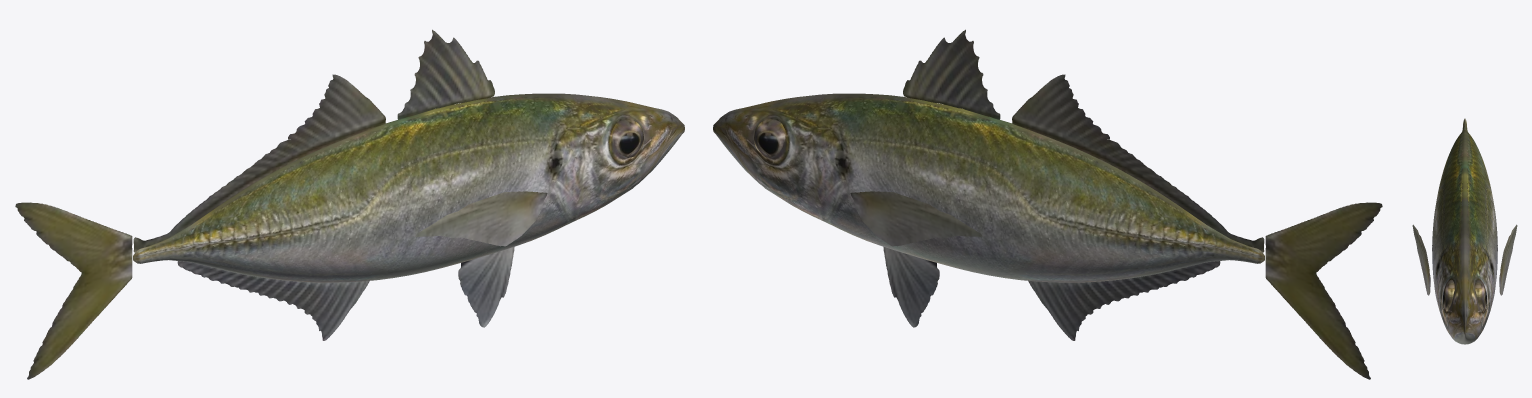
File: fish_aji.glb
3 renders of one model, left to right at view 1: azimuth 30°, elevation 25°; view 2: azimuth 150°, elevation 25°; view 3: azimuth 270°, elevation 25°, orthographic. The views are drawn at different scales.
Parts seen in each view (by area): view 1: hi, lo; view 2: hi, lo; view 3: hi, lo.
Boxes of the visible parts, bbox=[...] form: hi: bbox=[15, 29, 684, 379]; lo: bbox=[16, 46, 684, 379]; hi: bbox=[713, 29, 1382, 379]; lo: bbox=[713, 43, 1381, 340]; hi: bbox=[1412, 118, 1517, 344]; lo: bbox=[1413, 122, 1516, 341].
Size of the model in its own units: 1 by 0.4443 by 0.1788.
1 material, 1 textured.
